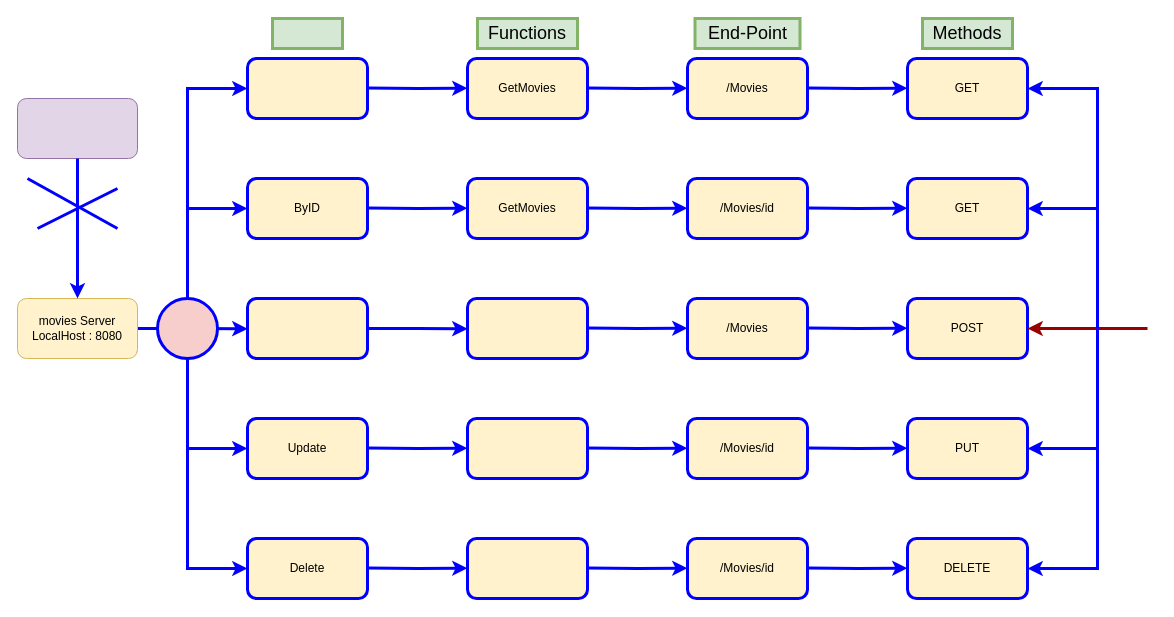
The diagram is 1174 pixels wide and 617 high, and some of its shapes have lost their labels. Here are the shapes that lost their labels. From the top down, the centre of each, then its label:
pixel 307 33: Routes
pixel 307 88: GetAll
pixel 77 128: DATABASE
pixel 187 328: Gorilla MUX
pixel 307 328: Create
pixel 527 328: CreateMovies
pixel 527 448: UpdateMovies
pixel 527 568: DeleteMovies
